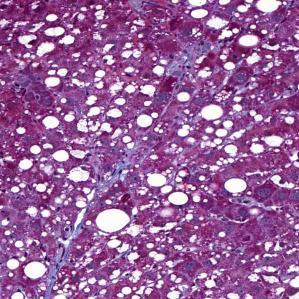fibrosis: (106, 153, 137, 183)
